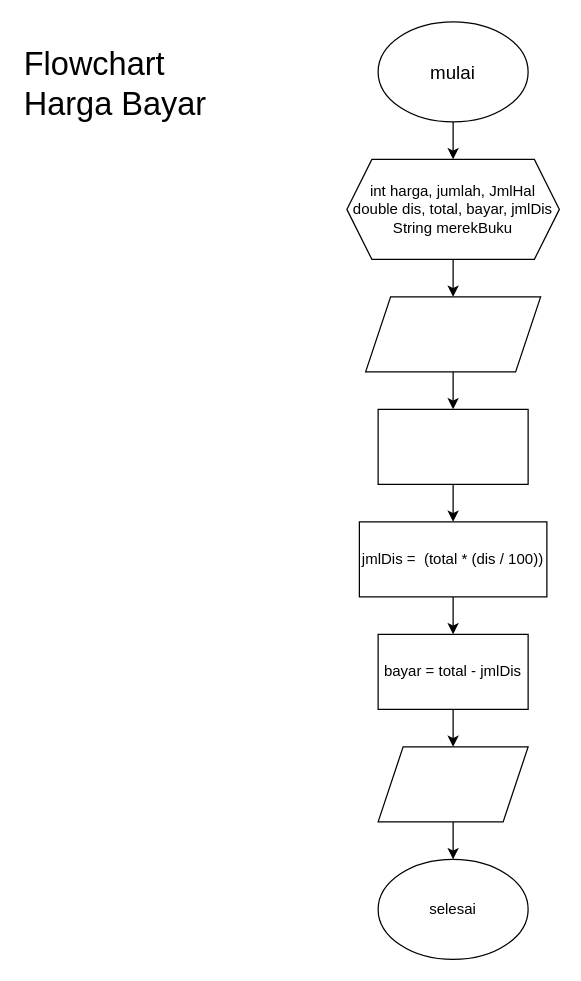
Some shapes in this 581 by 981 pixel diagram are drawn without their labels. Each missing label, with the centre of its shape:
"harga, jumlah, dis, merekBuku, jmlHal" belongs at pixel 452 334.
"jml Dis bayar" belongs at pixel 452 784.
"total = harga * jumlah" belongs at pixel 452 446.
